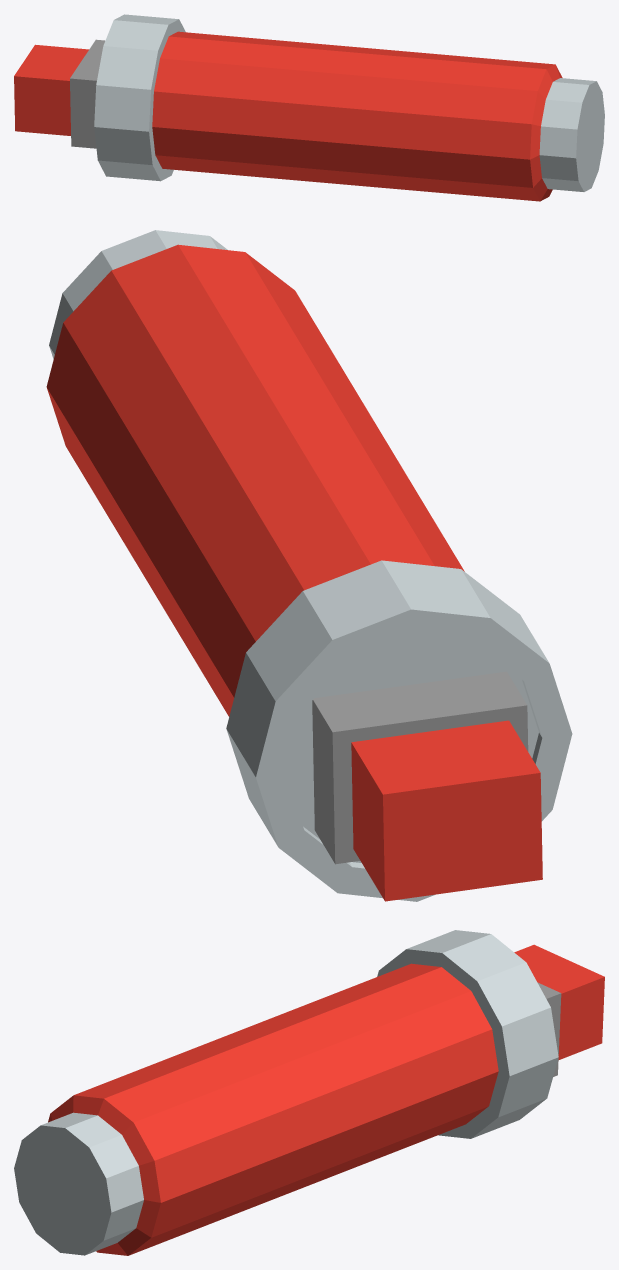
The model's file is group479889598_lev3.003.glb.
3 views of the same model, one above another, from view 1: azimuth 30°, elevation 25°; view 2: azimuth 150°, elevation 25°; view 3: azimuth 270°, elevation 25° (orthographic). The views are drawn at different scales.
Parts seen in each view (by area): view 1: group479889598_lev3.003; view 2: group479889598_lev3.003; view 3: group479889598_lev3.003.
Boxes of the visible parts, box(x1,y1,x2,y2) form: group479889598_lev3.003: box(14, 14, 604, 201); group479889598_lev3.003: box(46, 230, 572, 901); group479889598_lev3.003: box(14, 930, 604, 1255).
Bounding box in the file's own units: 1.67 × 0.5726 × 1.67.
